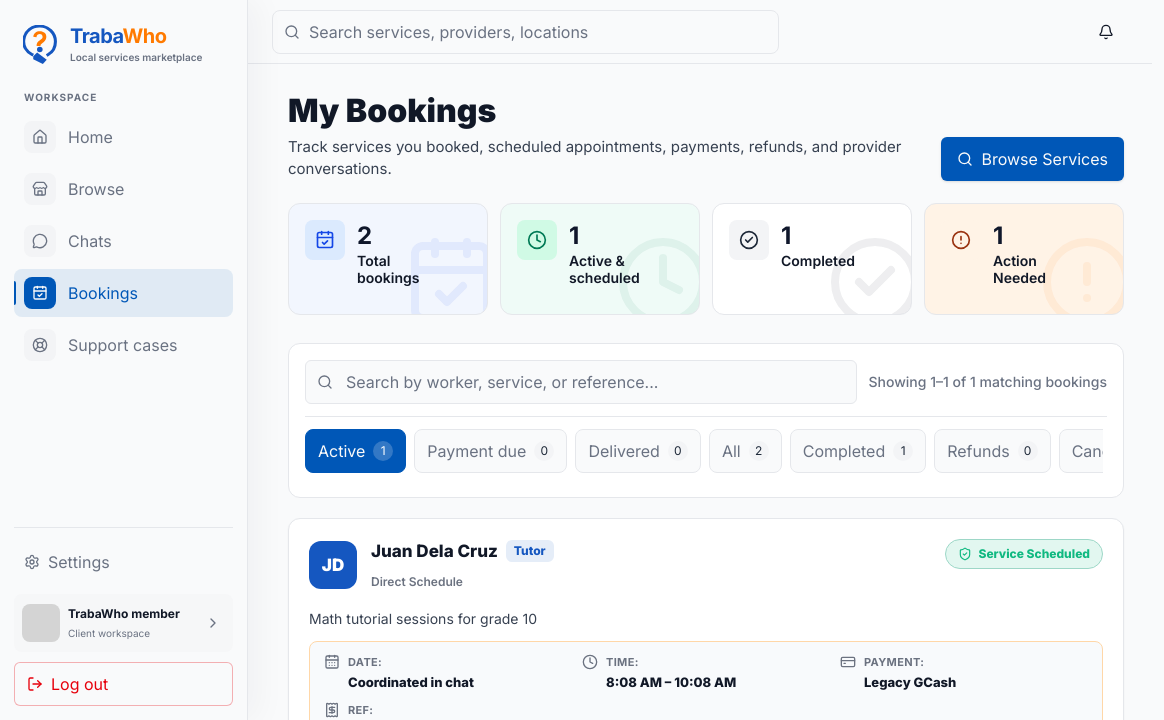
MyBookings Redesign Component › renders KPI snapshot cards and booking cards when bookings exist
This screenshot has width=1164, height=720.
Step 1. Click the button with aria-label "All, 2" → (745, 451), box [709,429,782,473]
(page scrolled)
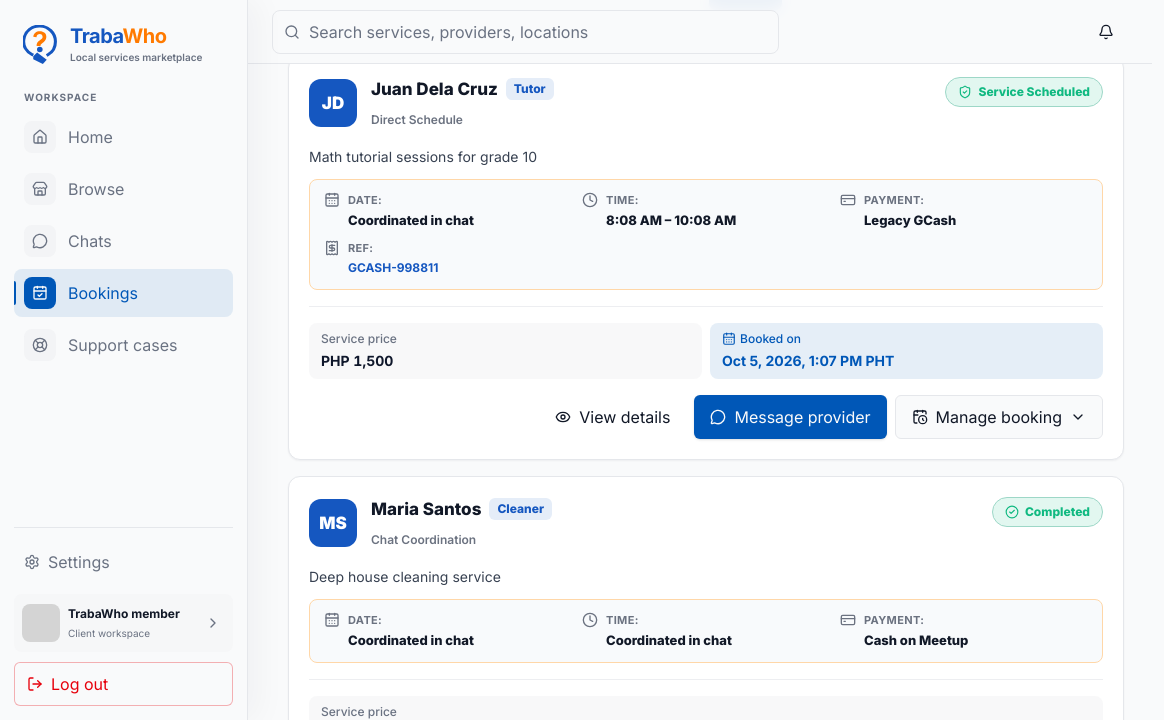
Expected: the element with test id "booking-card-b1" is shown, [288,56,1124,460]
Expected: the heading "Maria Santos Cleaner" is shown, [371,497,552,522]
